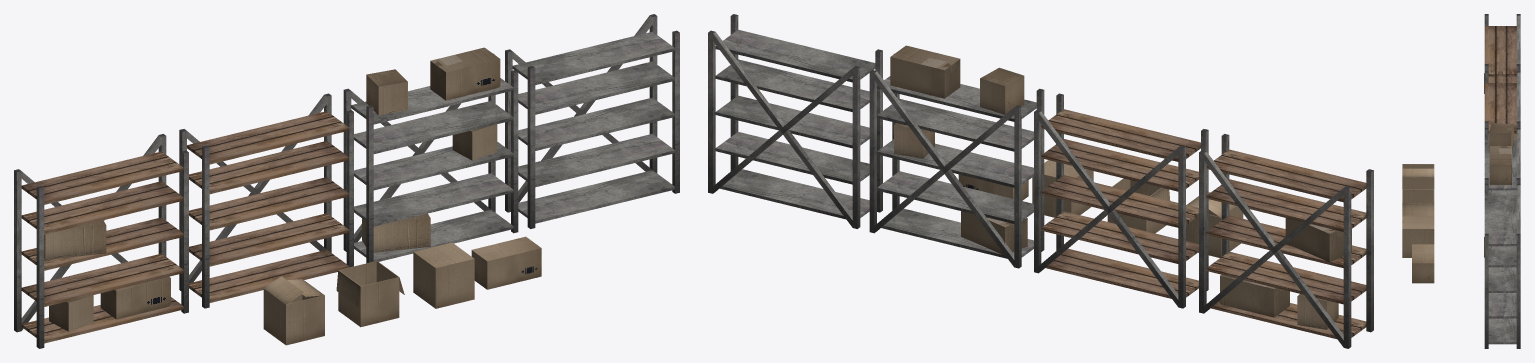
Rendered from psx_storage_shelves__cardboard_boxs.glb.
3 views of the same model, side by side, from view 1: azimuth 30°, elevation 25°; view 2: azimuth 150°, elevation 25°; view 3: azimuth 270°, elevation 25° (orthographic). The views are drawn at different scales.
Visible parts, largest first — view 1: Storage_Shelves_03, Storage_Shelves_01, Storage_Shelves_04, Storage_Shelves_02, Cardboard_box_01, Cardboard_box_02, Cardboard_box_03, Cardboard_box_04; view 2: Storage_Shelves_03, Storage_Shelves_01, Storage_Shelves_04, Storage_Shelves_02, Cardboard_box_01, Cardboard_box_03, Cardboard_box_02, Cardboard_box_04; view 3: Storage_Shelves_04, Storage_Shelves_03, Storage_Shelves_01, Storage_Shelves_02, Cardboard_box_03, Cardboard_box_04, Cardboard_box_02, Cardboard_box_01.
Part boxes in pixels (left/top/right/bottom): Storage_Shelves_03: left=343, top=47, right=518, bottom=263; Storage_Shelves_01: left=14, top=134, right=188, bottom=348; Storage_Shelves_04: left=505, top=14, right=679, bottom=228; Storage_Shelves_02: left=179, top=93, right=353, bottom=308; Cardboard_box_01: left=263, top=276, right=324, bottom=345; Cardboard_box_02: left=336, top=261, right=404, bottom=327; Cardboard_box_03: left=413, top=242, right=474, bottom=308; Cardboard_box_04: left=471, top=236, right=541, bottom=289; Storage_Shelves_03: left=869, top=45, right=1044, bottom=268; Storage_Shelves_01: left=1199, top=134, right=1373, bottom=348; Storage_Shelves_04: left=708, top=14, right=882, bottom=228; Storage_Shelves_02: left=1034, top=93, right=1208, bottom=308; Cardboard_box_01: left=1186, top=192, right=1243, bottom=257; Cardboard_box_03: left=1032, top=160, right=1093, bottom=217; Cardboard_box_02: left=1107, top=178, right=1170, bottom=233; Cardboard_box_04: left=958, top=174, right=1028, bottom=200; Storage_Shelves_04: left=1484, top=183, right=1520, bottom=348; Storage_Shelves_03: left=1484, top=123, right=1520, bottom=257; Storage_Shelves_01: left=1484, top=14, right=1520, bottom=93; Storage_Shelves_02: left=1484, top=71, right=1520, bottom=139; Cardboard_box_03: left=1402, top=215, right=1434, bottom=257; Cardboard_box_04: left=1412, top=244, right=1434, bottom=283; Cardboard_box_02: left=1402, top=189, right=1434, bottom=215; Cardboard_box_01: left=1402, top=164, right=1434, bottom=189.
Size of the model in its own units: 9.2 by 2.39 by 2.07.
Materials: 1 (1 with a texture image).
